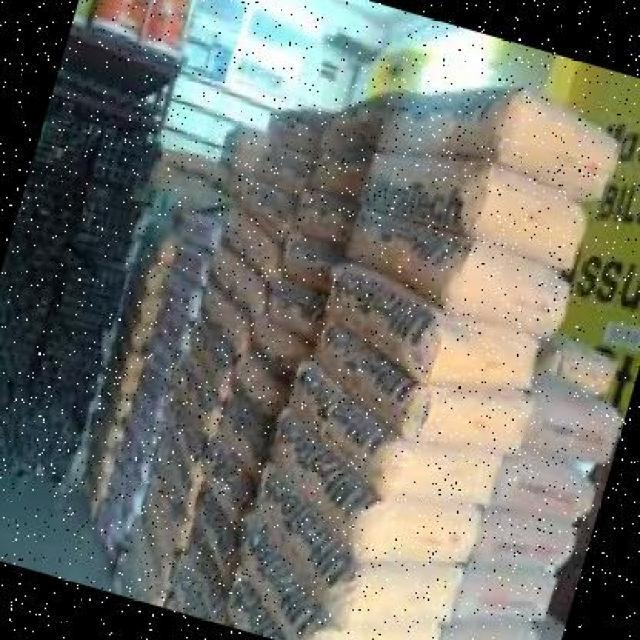gunny_bag: (265, 403, 483, 573), (253, 462, 469, 629), (287, 356, 506, 510), (307, 311, 534, 459), (323, 262, 535, 395), (240, 500, 438, 640), (346, 210, 569, 334), (361, 152, 591, 271), (378, 97, 621, 202), (521, 382, 625, 463), (485, 457, 593, 524), (223, 346, 292, 448), (469, 519, 582, 573), (271, 232, 342, 317), (452, 568, 555, 626), (222, 559, 293, 640), (140, 472, 190, 586), (199, 441, 251, 543), (190, 486, 239, 591), (159, 395, 211, 490), (173, 537, 229, 625), (300, 145, 378, 208), (531, 332, 617, 389), (143, 428, 194, 524), (215, 210, 280, 284), (316, 92, 391, 156), (204, 244, 264, 320), (173, 349, 221, 441), (188, 321, 239, 406), (246, 316, 301, 393), (297, 187, 355, 259), (234, 182, 298, 246), (197, 283, 249, 361), (146, 142, 221, 196), (257, 280, 316, 347), (125, 523, 169, 608), (248, 143, 315, 198), (215, 406, 261, 486), (152, 260, 203, 327), (108, 450, 151, 521), (138, 328, 186, 391), (124, 360, 166, 432), (145, 298, 190, 361), (83, 423, 122, 491), (120, 404, 156, 476), (95, 497, 133, 563), (159, 237, 207, 287), (73, 462, 109, 526), (172, 202, 218, 252), (96, 379, 129, 444), (138, 217, 174, 274), (267, 122, 323, 158), (444, 620, 542, 640), (213, 157, 251, 206), (126, 241, 156, 302), (215, 131, 264, 168), (138, 185, 178, 229), (115, 548, 146, 603), (111, 301, 139, 360), (123, 281, 151, 332), (108, 336, 133, 391)
